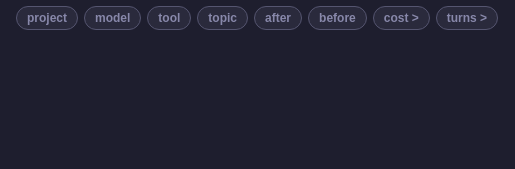
Test: FilterChips — autocomplete chips › typing in the dropdown filters the option list in real time
Click the button "project": [47, 18] box [16,6,78,30]
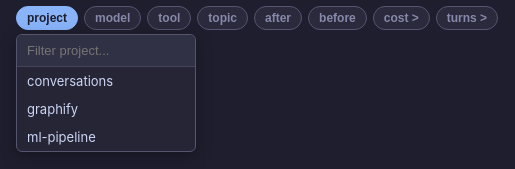
In the field with placeholder "Filter project...": [106, 51] box [17,35,195,67], type "graph"
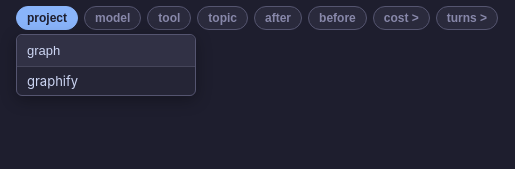
Now the text "graphify" is shown, box [27,73,78,89]
Now the text "conversations" is gone
Now the text "ml-pipeline" is gone
